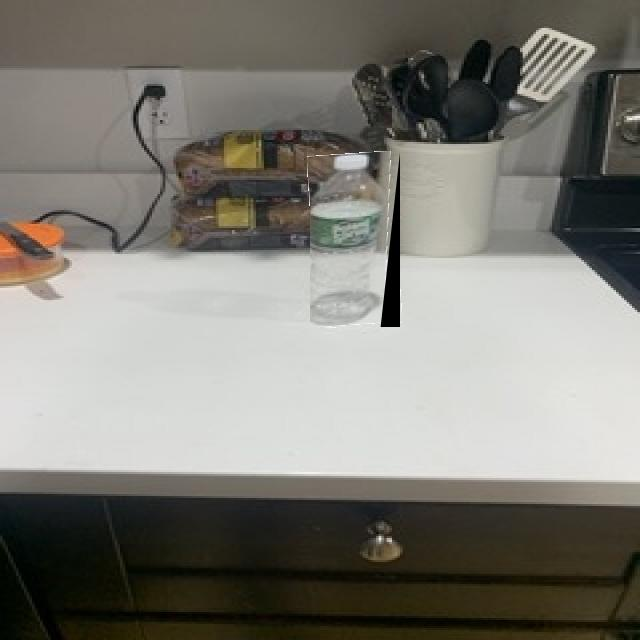water_bottle: (310, 152, 400, 327)
